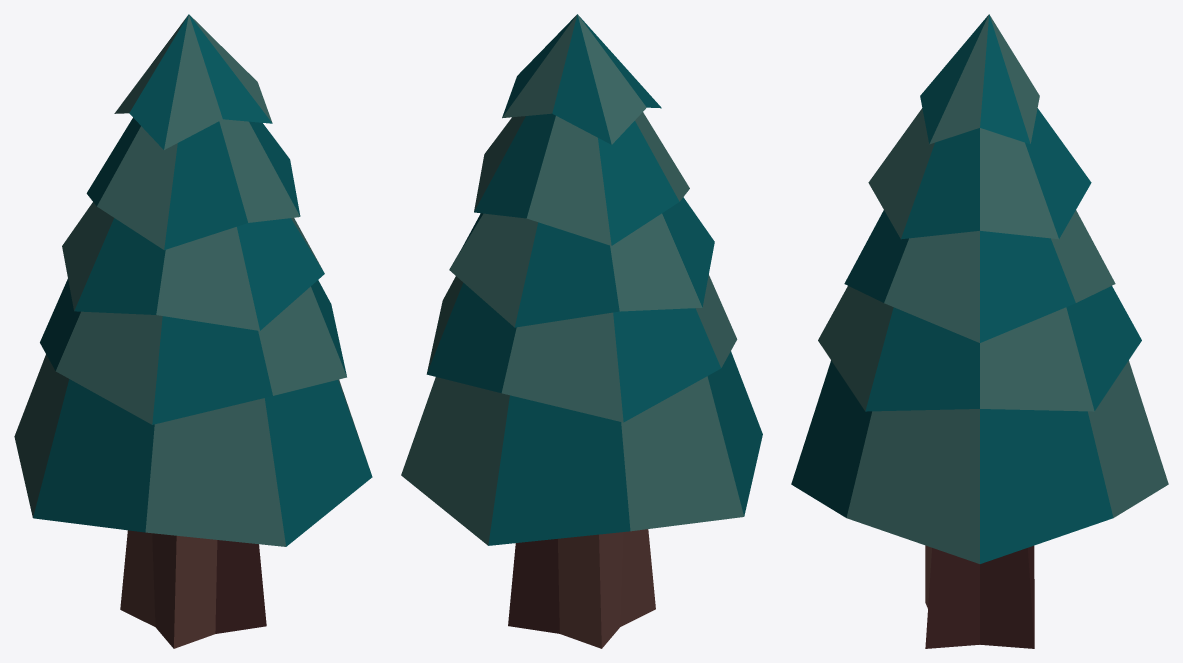
The model's file is tree.fbx.
The picture shows the model from 3 angles, left to right: view 1: azimuth 30°, elevation 25°; view 2: azimuth 150°, elevation 25°; view 3: azimuth 270°, elevation 25°; orthographic projection.
Parts seen in each view (by area): view 1: tree1; view 2: tree1; view 3: tree1.
Part boxes in pixels (box(x1,y1,x2,y2)): tree1: box(14, 14, 372, 648); tree1: box(401, 14, 762, 648); tree1: box(791, 14, 1168, 648).
Bounding box in the file's own units: 24.25 × 43.34 × 24.25.
